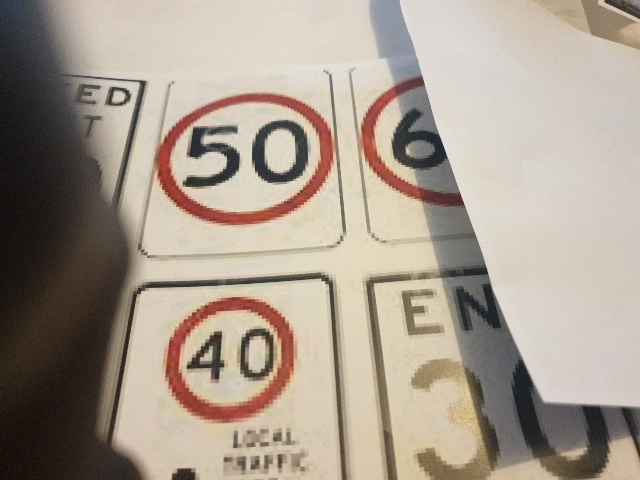sp30: (405, 352, 627, 475)
sp40: (162, 301, 306, 415)
sp50: (163, 101, 345, 225)
sp60: (350, 67, 544, 215)
